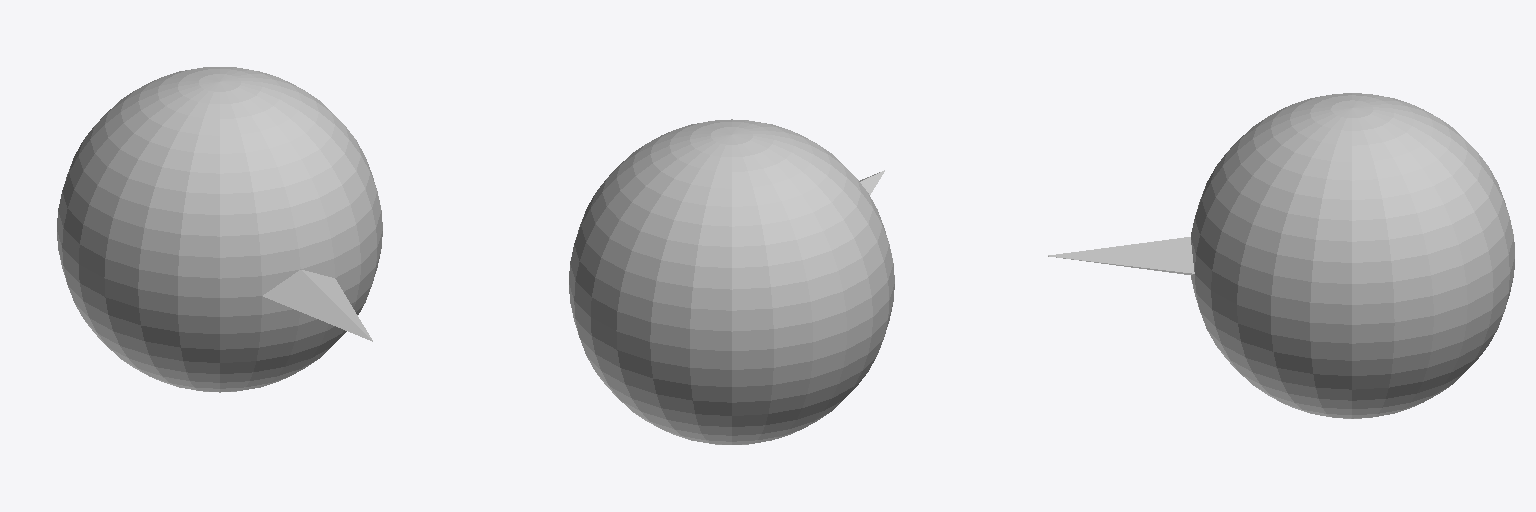
The model's file is PointySphere.obj.
3 views of the same model, side by side, from view 1: azimuth 30°, elevation 25°; view 2: azimuth 150°, elevation 25°; view 3: azimuth 270°, elevation 25° (orthographic).
Visible parts, largest first — view 1: Sphere02; view 2: Sphere02; view 3: Sphere02.
Boxes of the visible parts, box(x1,y1,x2,y2) form: Sphere02: box(57, 67, 382, 392); Sphere02: box(569, 119, 894, 444); Sphere02: box(1048, 93, 1514, 418).
Size of the model in its own units: 5.87 by 5.87 by 8.47.